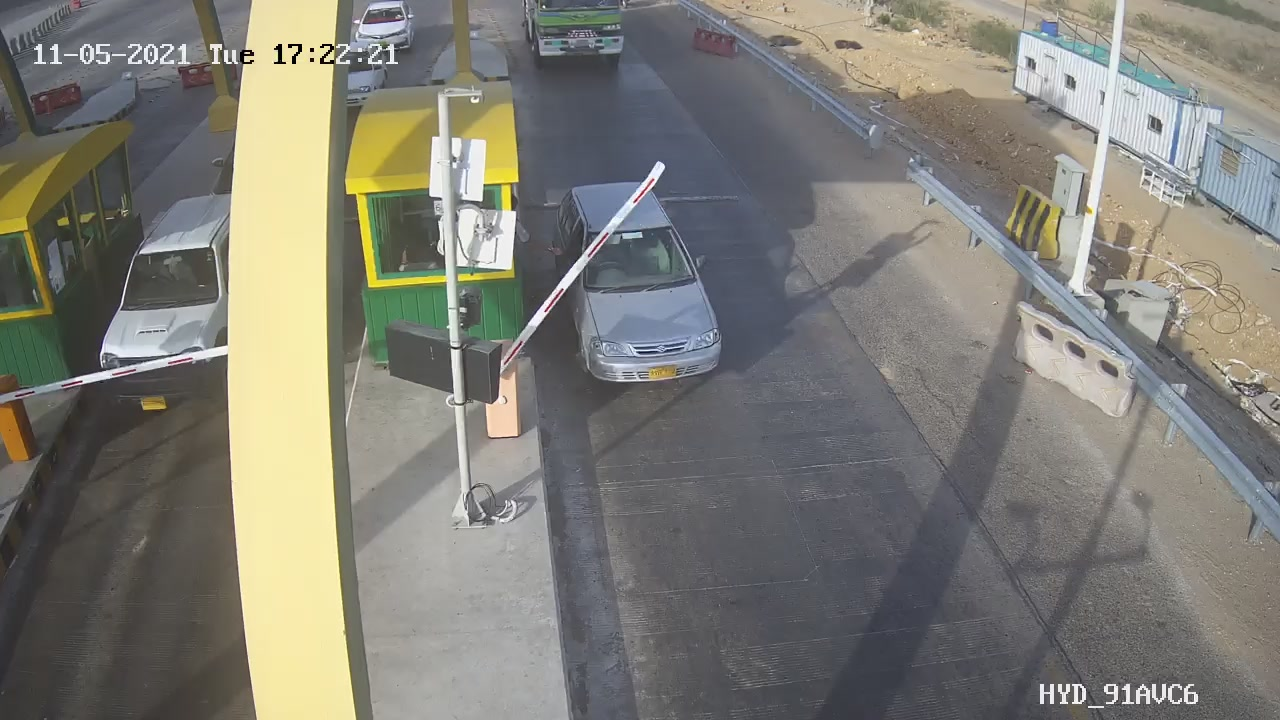F1: (533, 166, 746, 405)
